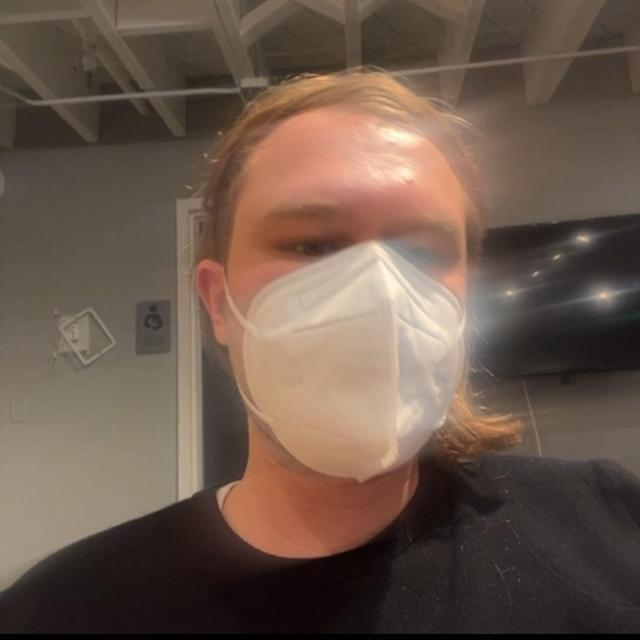no hat: (152, 61, 534, 572)
